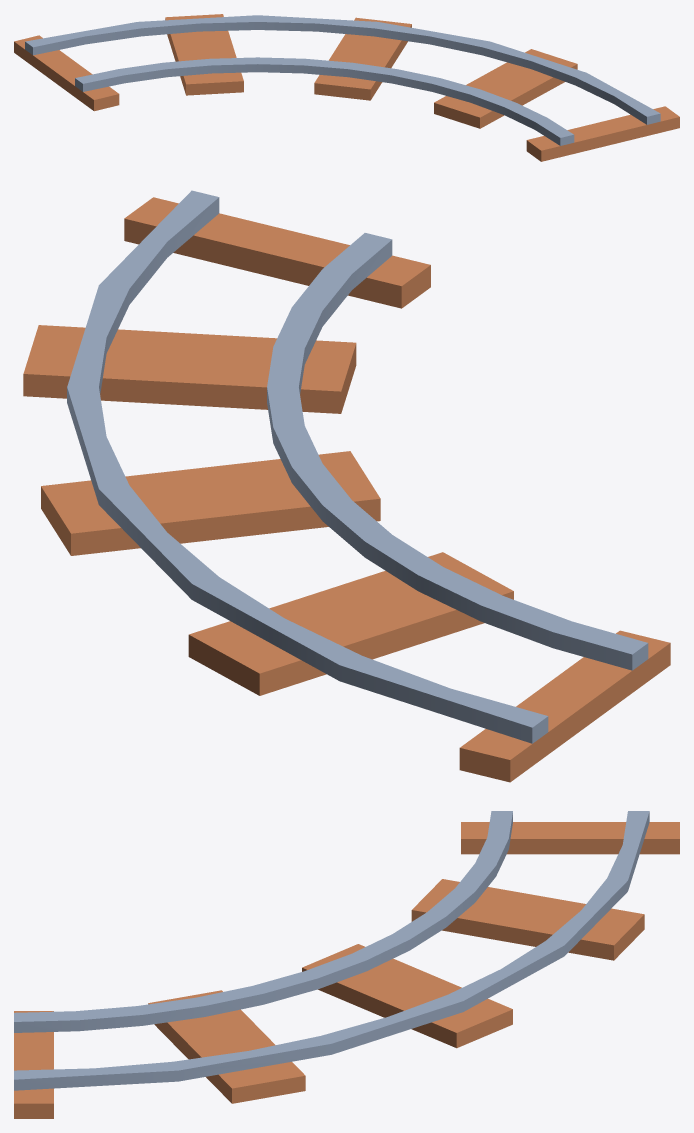
Rendered from trackCornerLarge.fbx.
The picture shows the model from 3 angles, top to bottom: view 1: azimuth 30°, elevation 25°; view 2: azimuth 150°, elevation 25°; view 3: azimuth 270°, elevation 25°; orthographic projection. The views are drawn at different scales.
Parts seen in each view (by area): view 1: trackCornerLarge; view 2: trackCornerLarge; view 3: trackCornerLarge.
Part boxes in pixels (box(x1,y1,x2,y2)): trackCornerLarge: box(14, 14, 679, 161); trackCornerLarge: box(23, 190, 670, 782); trackCornerLarge: box(14, 811, 679, 1118).
Size of the model in its own units: 5.53 by 0.241 by 5.53.
